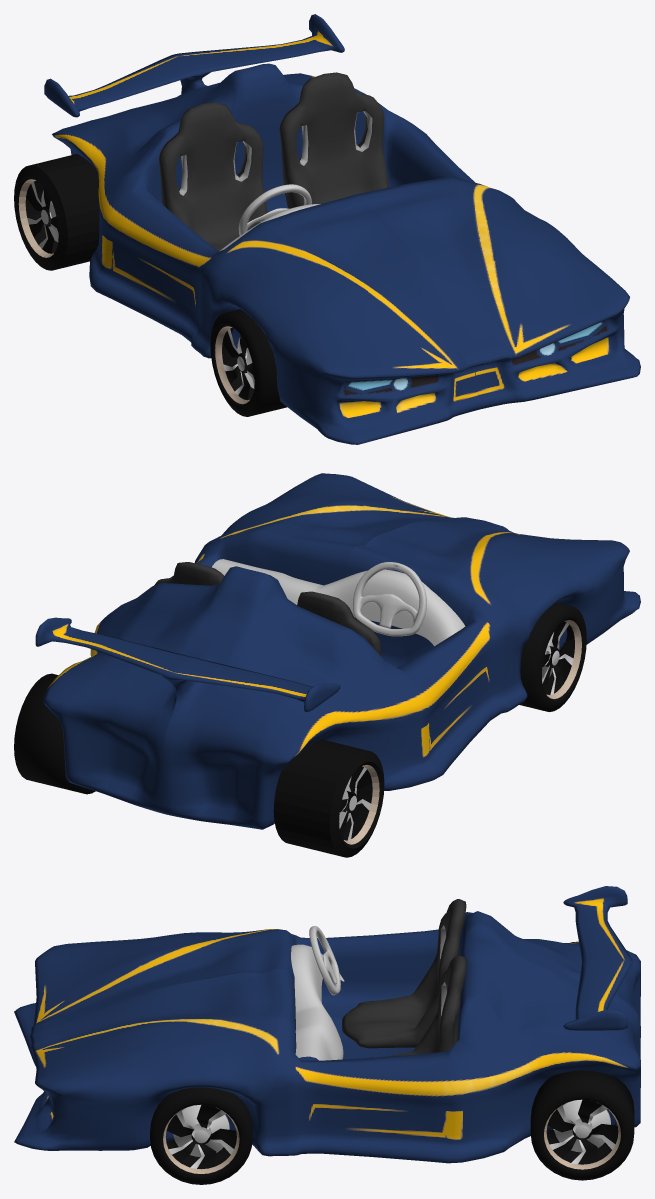
The model's file is Lowo ireng V1 3.fbx.
3 renders of one model, top to bottom at view 1: azimuth 30°, elevation 25°; view 2: azimuth 150°, elevation 25°; view 3: azimuth 270°, elevation 25°, orthographic. The views are drawn at different scales.
Visible parts, largest first — view 1: Cube.003, Cube.001, Cube.004, Cylinder.004, Cylinder.003, Cube; view 2: Cube.003, Cylinder.004, Cylinder.003, Plane, Cylinder.005, Cube, Cube.001, Cube.004; view 3: Cube.003, Cylinder.005, Cylinder.006, Cube.001, Plane, Cube.004, Cube.
Boxes of the visible parts, x1,y1,x2,y2 form: Cube.003: [44, 14, 640, 444]; Cube.001: [159, 102, 267, 250]; Cube.004: [279, 72, 388, 208]; Cylinder.004: [14, 154, 99, 270]; Cylinder.003: [210, 309, 286, 416]; Cube: [238, 184, 311, 235]; Cube.003: [35, 473, 640, 829]; Cylinder.004: [273, 739, 384, 857]; Cylinder.003: [519, 602, 586, 711]; Plane: [212, 559, 465, 646]; Cylinder.005: [14, 673, 95, 794]; Cube: [353, 562, 426, 636]; Cube.001: [297, 591, 381, 655]; Cube.004: [154, 562, 224, 585]; Cube.003: [14, 886, 640, 1163]; Cylinder.005: [530, 1070, 634, 1180]; Cylinder.006: [150, 1087, 252, 1184]; Cube.001: [342, 899, 466, 1048]; Plane: [291, 944, 344, 1060]; Cube.004: [371, 955, 467, 1057]; Cube: [309, 926, 340, 995].
Size of what is drawn, in the model's own units: 652 by 360 by 1056.
